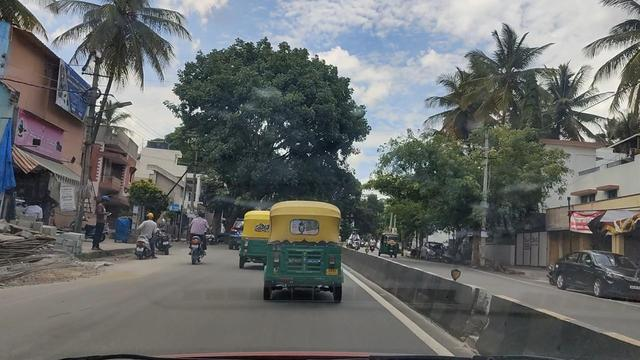LMV: (264, 208, 344, 301), (186, 202, 214, 271), (245, 213, 273, 264)
